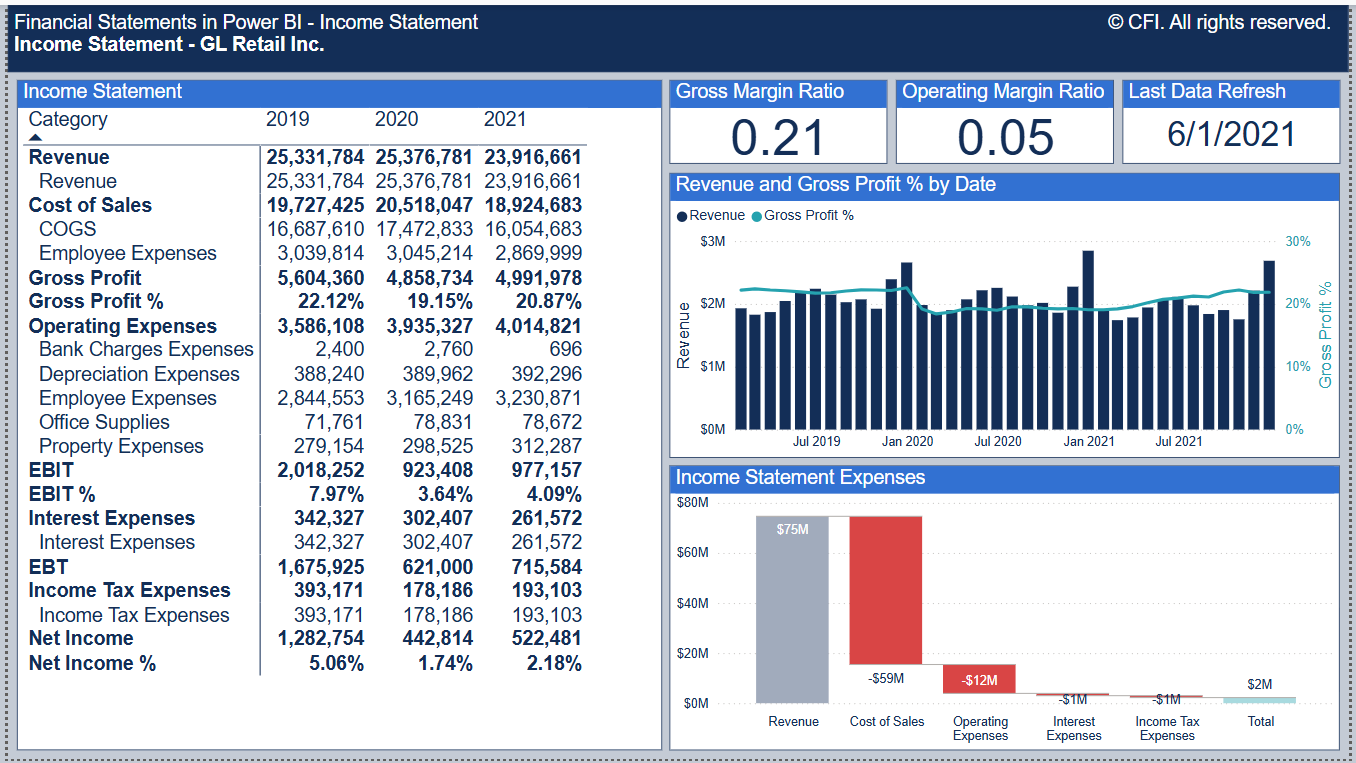

Layout of this report page (visuals, bound fields, positions):
{"tool":"powerbi","page":{"name":"Income Statement","canvas":[1280,720],"ordinal":0},"visuals":[{"type":"shape","box":[0,0,1280,64],"z":0},{"type":"pivotTable","title":"Income Statement","fields":{"Rows":["Headers.Category","GLAccts.Subcategory"],"Columns":["DimDate.Year"],"Values":["FactGLTran.Income Statement"]},"box":[8,72,616,640],"z":1000},{"type":"card","title":"Gross Margin Ratio","fields":{"Values":["FactGLTran.Gross Margin Ratio"]},"box":[632,72,208,80],"z":2000},{"type":"card","title":"Operating Margin Ratio","fields":{"Values":["FactGLTran.Operating Margin Ratio"]},"box":[848,72,208,80],"z":3000},{"type":"card","title":"Last Data Refresh","fields":{"Values":["Min(LastDataRefresh.LastDataRefresh)"]},"box":[976,576,296,80],"z":4000},{"type":"lineStackedColumnComboChart","fields":{"Category":["DimDate.Date"],"Y":["FactGLTran.Revenue"],"Y2":["FactGLTran.Gross Profit Margin %"]},"box":[632,160,640,272],"z":5000},{"type":"waterfallChart","title":"Income Statement Expenses","fields":{"Category":["DimHeaders.Category"],"Y":["FactGLTran.Sign Flip"]},"box":[632,440,640,272],"z":6000},{"type":"textbox","box":[0,0,1280,64],"z":7000},{"type":"card","title":"Last Data Refresh","fields":{"Values":["Min(LastDataRefresh.LastDataRefresh)"]},"box":[1064,72,208,80],"z":8000}]}

Visuals, with their boxes in screenshot pixels (x1, y1, x2, y2), scaled from the page's 1280x720 canvas onto the 1356x763 screenshot:
shape: (x1=0, y1=0, x2=1355, y2=68)
"Income Statement" pivotTable: (x1=8, y1=76, x2=661, y2=755)
"Gross Margin Ratio" card: (x1=670, y1=76, x2=890, y2=161)
"Operating Margin Ratio" card: (x1=898, y1=76, x2=1119, y2=161)
"Last Data Refresh" card: (x1=1034, y1=610, x2=1348, y2=695)
lineStackedColumnComboChart - DimDate.Date x FactGLTran.Revenue: (x1=670, y1=170, x2=1348, y2=458)
"Income Statement Expenses" waterfallChart: (x1=670, y1=466, x2=1348, y2=755)
textbox: (x1=0, y1=0, x2=1355, y2=68)
"Last Data Refresh" card: (x1=1127, y1=76, x2=1348, y2=161)
